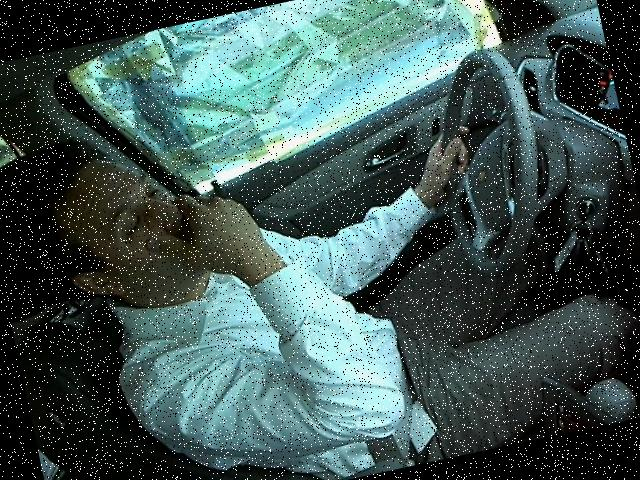c6 - Hair and Makeup: (8, 28, 592, 432)
